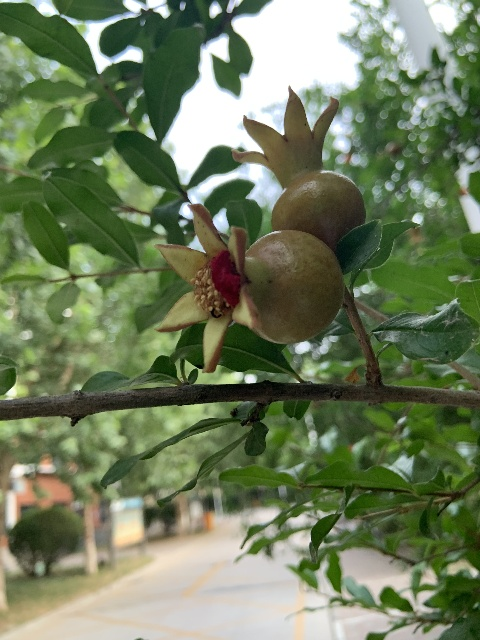early-fruit: (152, 202, 342, 373), (230, 83, 364, 247)
